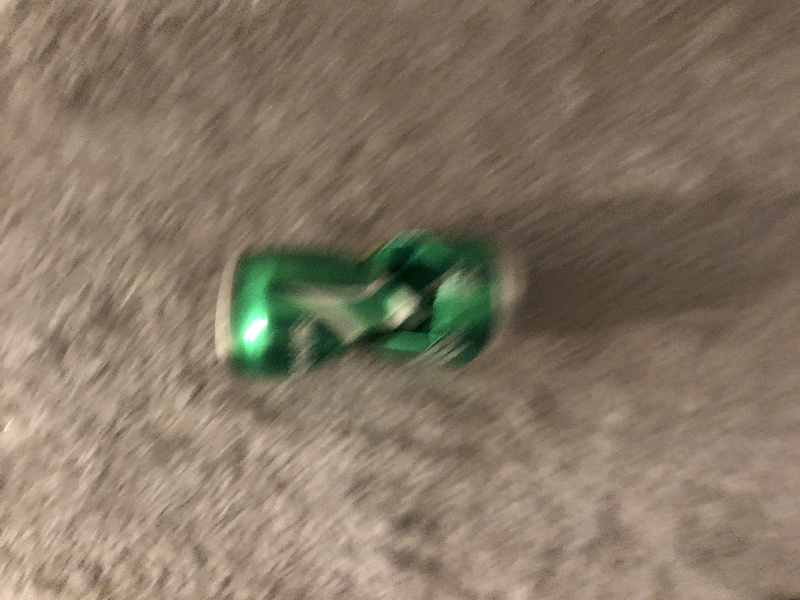metal: (210, 224, 528, 384)
